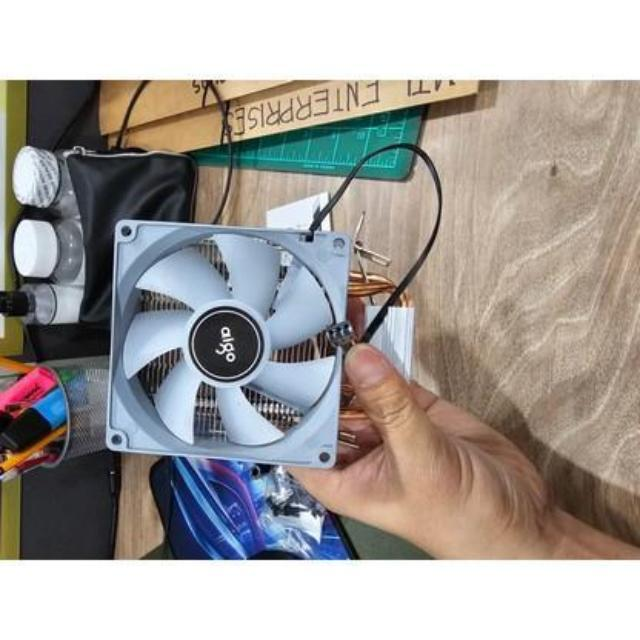CPU_Fan: (110, 218, 412, 473)
